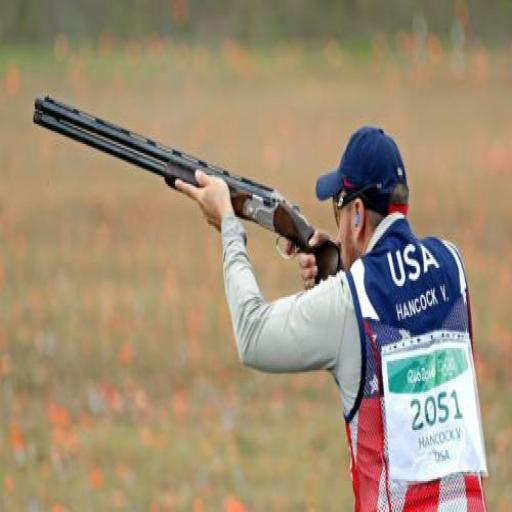shooting: (170, 122, 493, 510)
